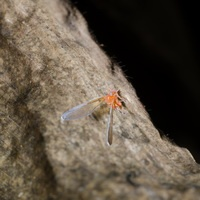insect: (61, 90, 125, 144)
